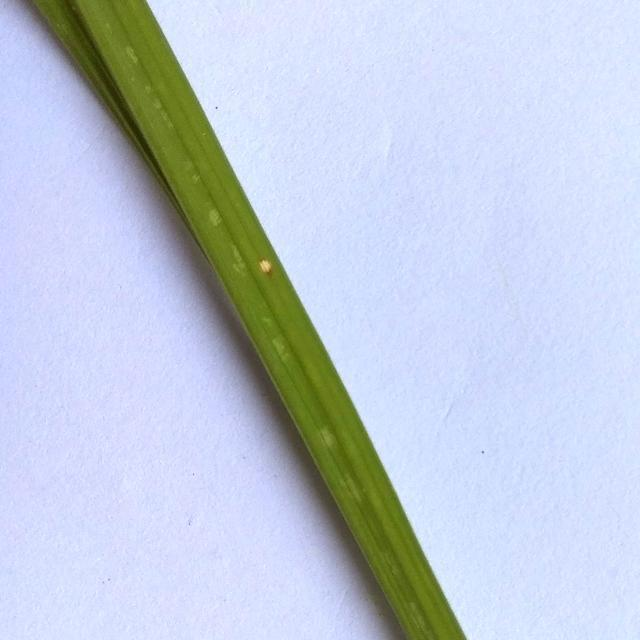Blast: (256, 254, 276, 280)
